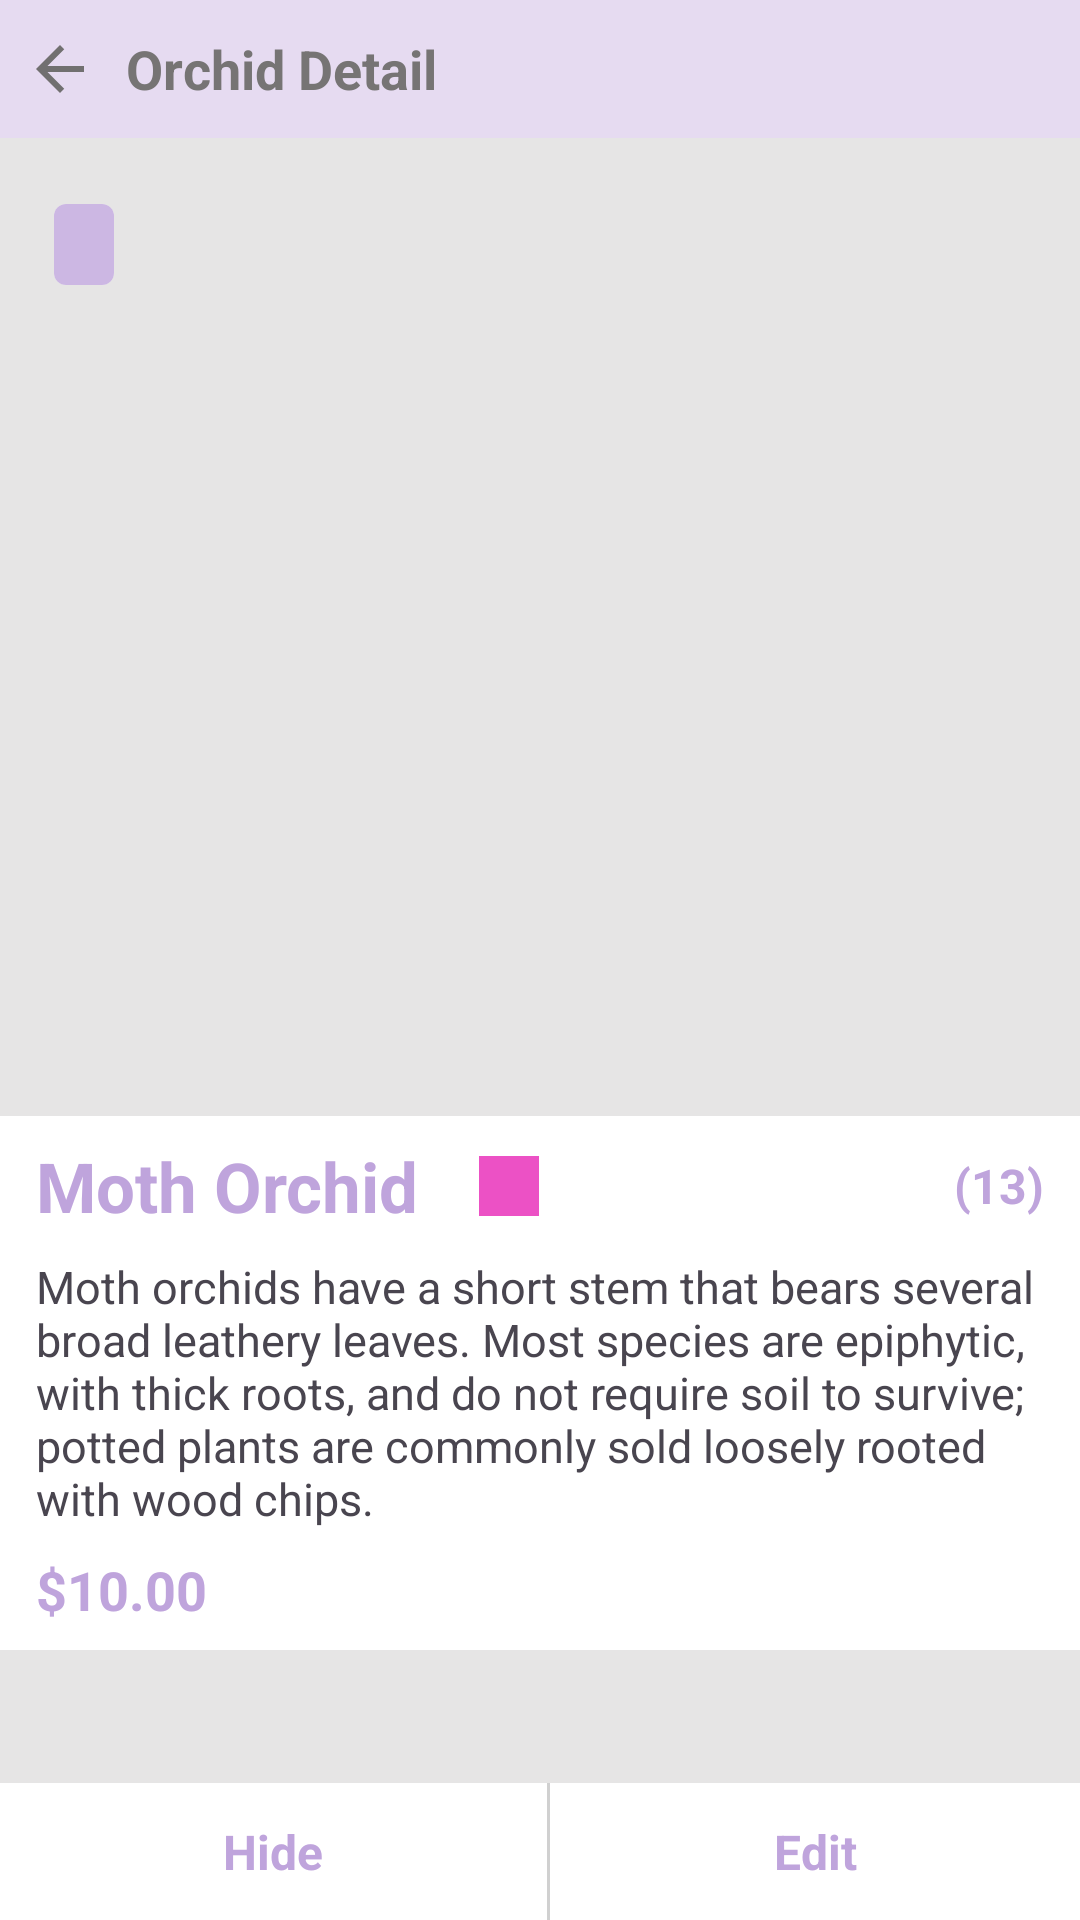

Where to tap for icons on this 1080×1920 app screen, as (x,y):
cart back: (60,69)
